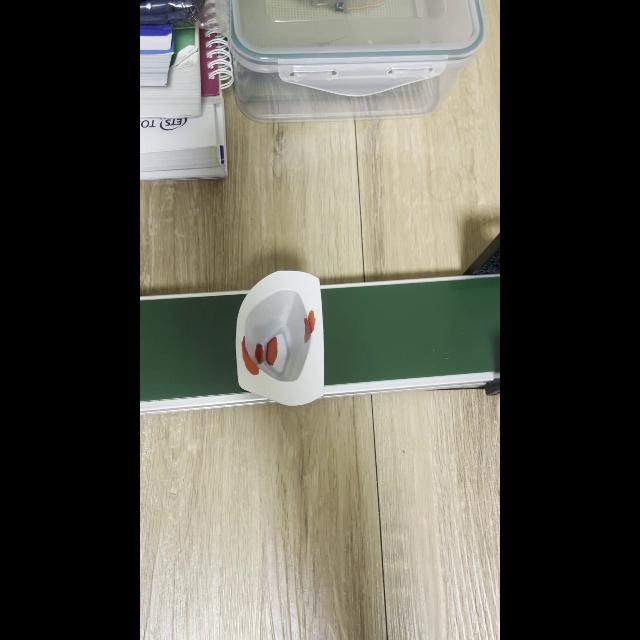dirty: (235, 271, 325, 405)
